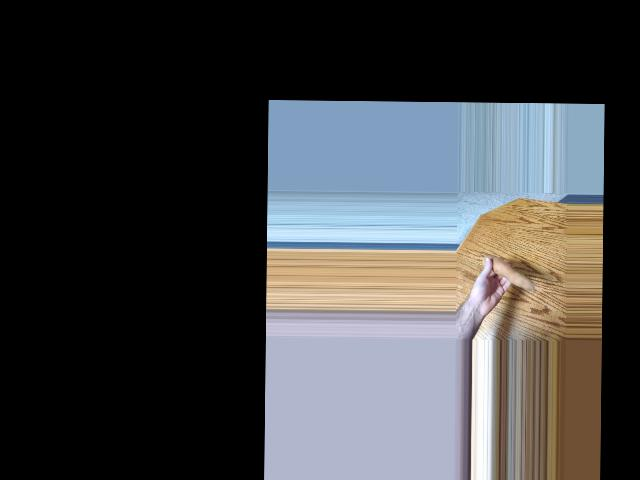sweet_potato: (480, 254, 534, 291)
